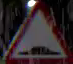Speed Breaker ahead: (2, 1, 72, 63)
